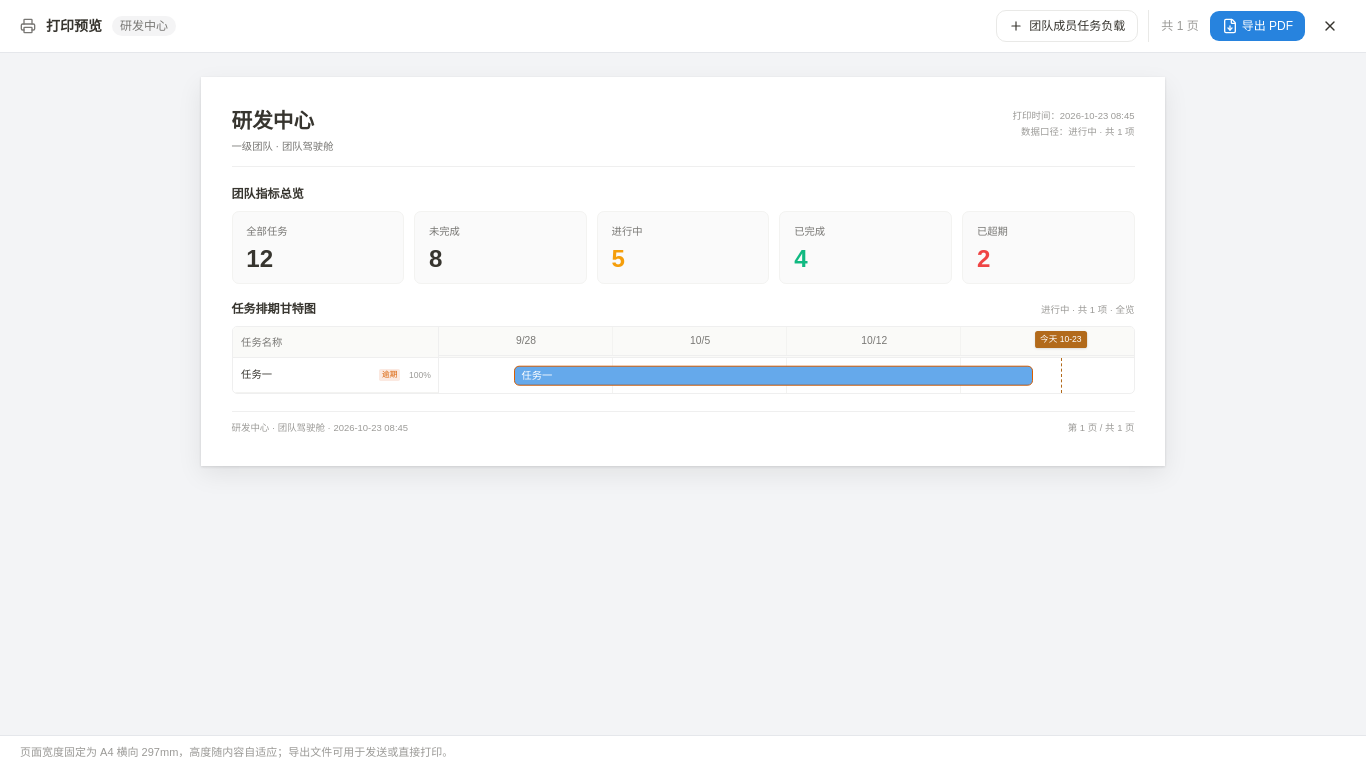
Scenario: 团队驾驶舱打印预览 › 成员负载选择项是按钮，选中状态通过 aria-pressed 提示并实时增加第二页
This screenshot has width=1366, height=768.
Expected: the button "导出 PDF" is enabled, x1=1209 y1=10 x2=1306 y2=42
Click the button with aria-label "包含团队成员任务负载" at (1067, 26), box x1=996 y1=10 x2=1138 y2=42
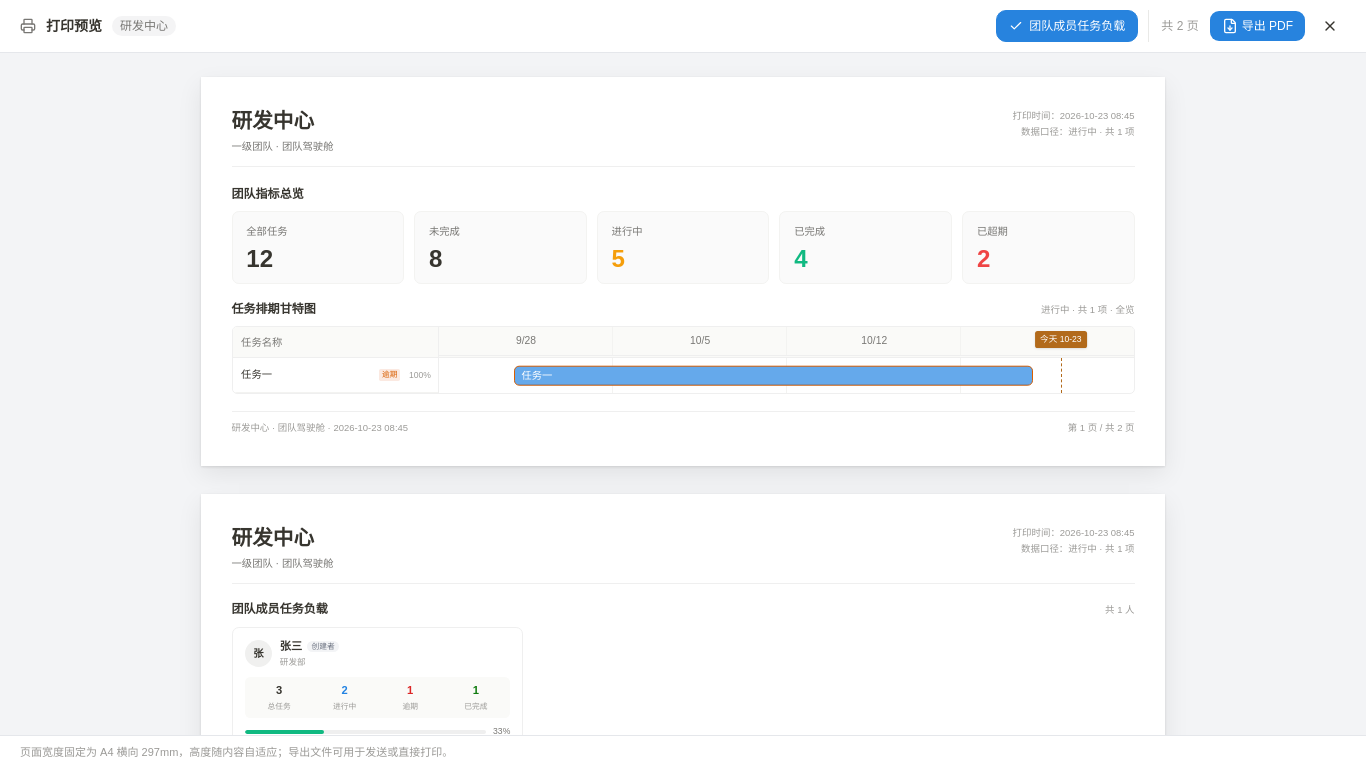
Now the text "共 2 页" is shown, box x1=1159 y1=18 x2=1201 y2=34
Now the heading "团队成员任务负载" is shown, box x1=232 y1=601 x2=328 y2=618
Now the text "张三" is shown, box x1=280 y1=638 x2=302 y2=655
Click the button "导出 PDF" at (1257, 26), box x1=1209 y1=10 x2=1306 y2=42
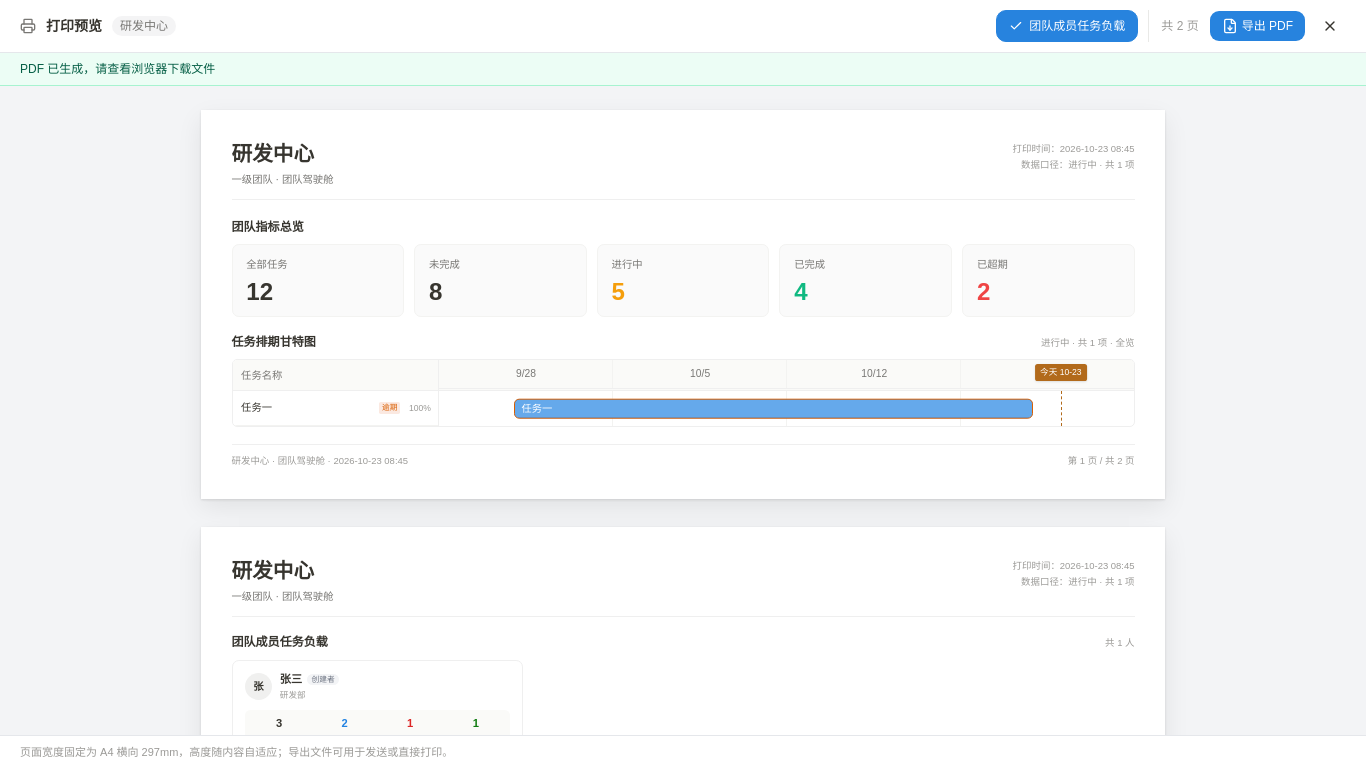
Now the text "PDF 已生成，请查看浏览器下载文件" is shown, box x1=0 y1=53 x2=1365 y2=86
